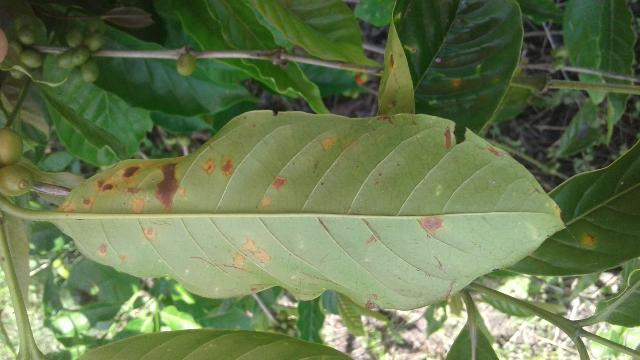rust_level_2: (48, 108, 571, 310)
